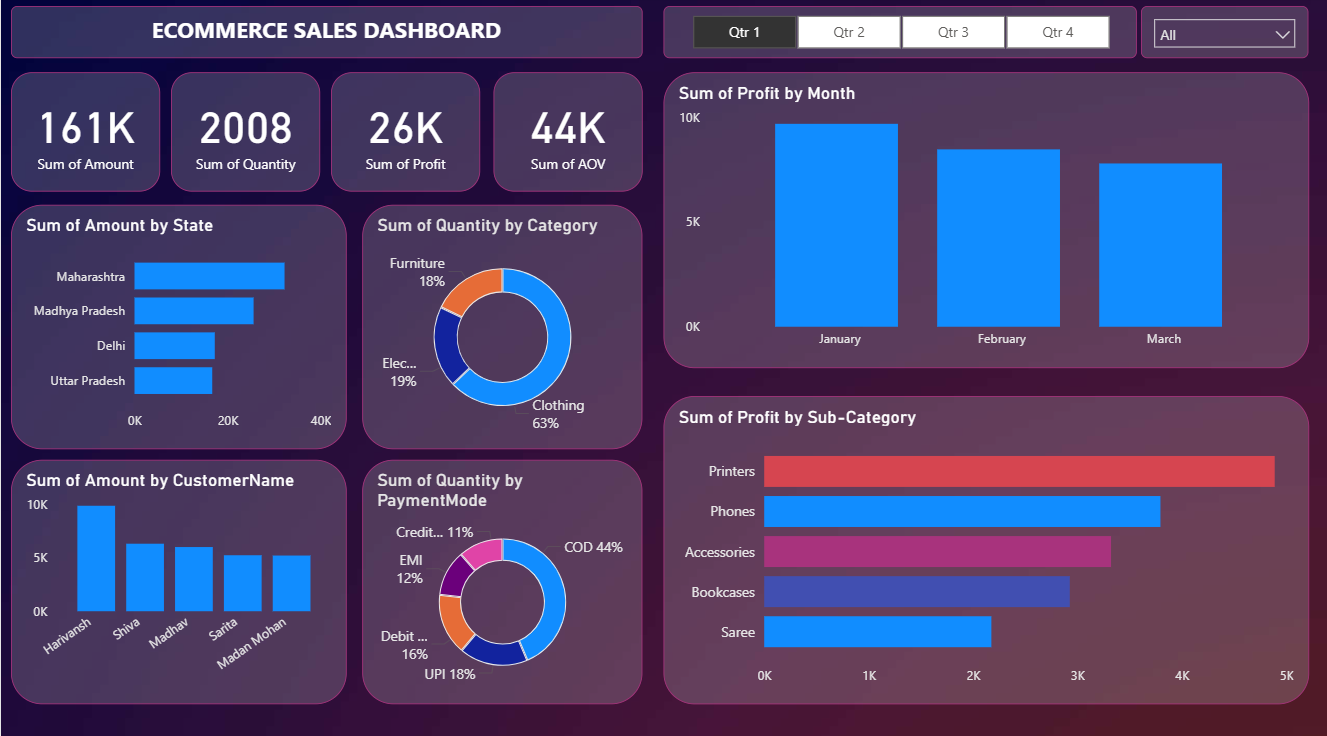

The dashboard page shown, as its layout file describes it:
{"tool":"powerbi","page":{"name":"Page 1","canvas":[1280,720],"ordinal":0},"visuals":[{"type":"textbox","box":[9.6,9.6,609.3,50.8],"z":0},{"type":"columnChart","fields":{"Category":["Orders.Order Date.Variation.Date Hierarchy.Month"],"Y":["Details.Profit"]},"box":[639.5,74.1,623,285.4],"z":1000},{"type":"barChart","fields":{"Category":["Details.Sub-Category"],"Y":["Details.Profit"]},"box":[639.5,385.6,623,297.8],"z":2000},{"type":"donutChart","fields":{"Category":["Details.Category"],"Y":["Details.Quantity"]},"box":[348.5,201.7,270.3,236],"z":3000},{"type":"donutChart","fields":{"Y":["Details.Quantity"],"Category":["Details.PaymentMode"]},"box":[348.5,447.3,270.3,236],"z":4000},{"type":"card","fields":{"Values":["Details.Amount"]},"box":[9.6,74.1,144.1,115.3],"z":5000},{"type":"card","fields":{"Values":["Details.Quantity"]},"box":[164.7,74.1,144.1,115.3],"z":6000},{"type":"card","fields":{"Values":["Details.AOV"]},"box":[474.8,74.1,144.1,115.3],"z":7000},{"type":"card","fields":{"Values":["Details.Profit"]},"box":[318.4,74.1,144.1,115.3],"z":8000},{"type":"barChart","fields":{"Category":["Orders.State"],"Y":["Details.Amount"]},"box":[9.6,201.7,323.8,236],"z":9000},{"type":"columnChart","fields":{"Category":["Orders.CustomerName"],"Y":["Details.Amount"]},"box":[10,447,324,236],"z":10000},{"type":"slicer","fields":{"Values":["Orders.Order Date.Variation.Date Hierarchy.Quarter"]},"box":[639.5,9.6,456.9,50.8],"z":11000},{"type":"slicer","fields":{"Values":["Orders.State"]},"box":[1100.5,9.6,161.9,50.8],"z":12000}]}

Visuals, with their boxes in screenshot pixels (x1, y1, x2, y2), scaled from the page's 1280x720 canvas onto the 1327x736 screenshot:
textbox: Rect(10, 10, 642, 62)
columnChart - Orders.Order Date.Variation.Date Hierarchy.Month x Details.Profit: Rect(663, 76, 1309, 367)
barChart - Details.Sub-Category x Details.Profit: Rect(663, 394, 1309, 699)
donutChart - Details.Category x Details.Quantity: Rect(361, 206, 642, 447)
donutChart - Details.Quantity x Details.PaymentMode: Rect(361, 457, 642, 698)
card - Details.Amount: Rect(10, 76, 159, 194)
card - Details.Quantity: Rect(171, 76, 320, 194)
card - Details.AOV: Rect(492, 76, 642, 194)
card - Details.Profit: Rect(330, 76, 479, 194)
barChart - Orders.State x Details.Amount: Rect(10, 206, 346, 447)
columnChart - Orders.CustomerName x Details.Amount: Rect(10, 457, 346, 698)
slicer - Orders.Order Date.Variation.Date Hierarchy.Quarter: Rect(663, 10, 1137, 62)
slicer - Orders.State: Rect(1141, 10, 1309, 62)
